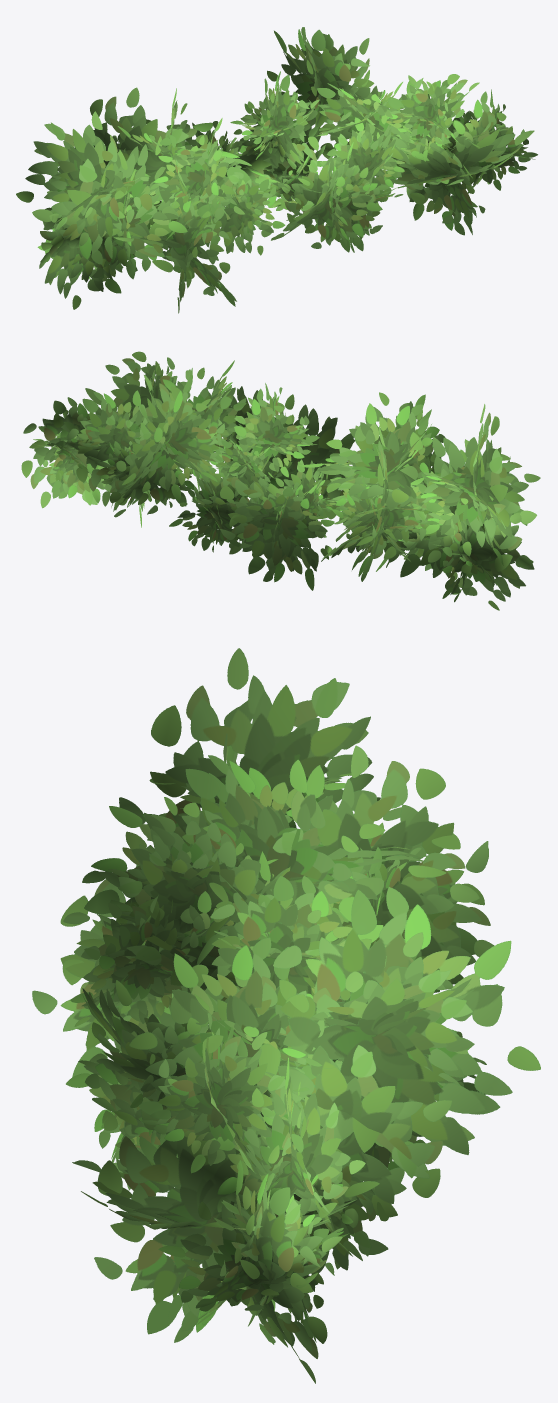
The model's file is SM_Bush03.fbx.
3 renders of one model, top to bottom at view 1: azimuth 30°, elevation 25°; view 2: azimuth 150°, elevation 25°; view 3: azimuth 270°, elevation 25°, orthographic. The views are drawn at different scales.
Visible parts, largest first — view 1: Bush.003; view 2: Bush.003; view 3: Bush.003.
Part boxes in pixels (x1=…): Bush.003: x1=16, y1=27, x2=537, y2=313; Bush.003: x1=21, y1=351, x2=540, y2=610; Bush.003: x1=32, y1=648, x2=540, y2=1383.
Size of the model in its own units: 16.2 by 7.86 by 6.56.
